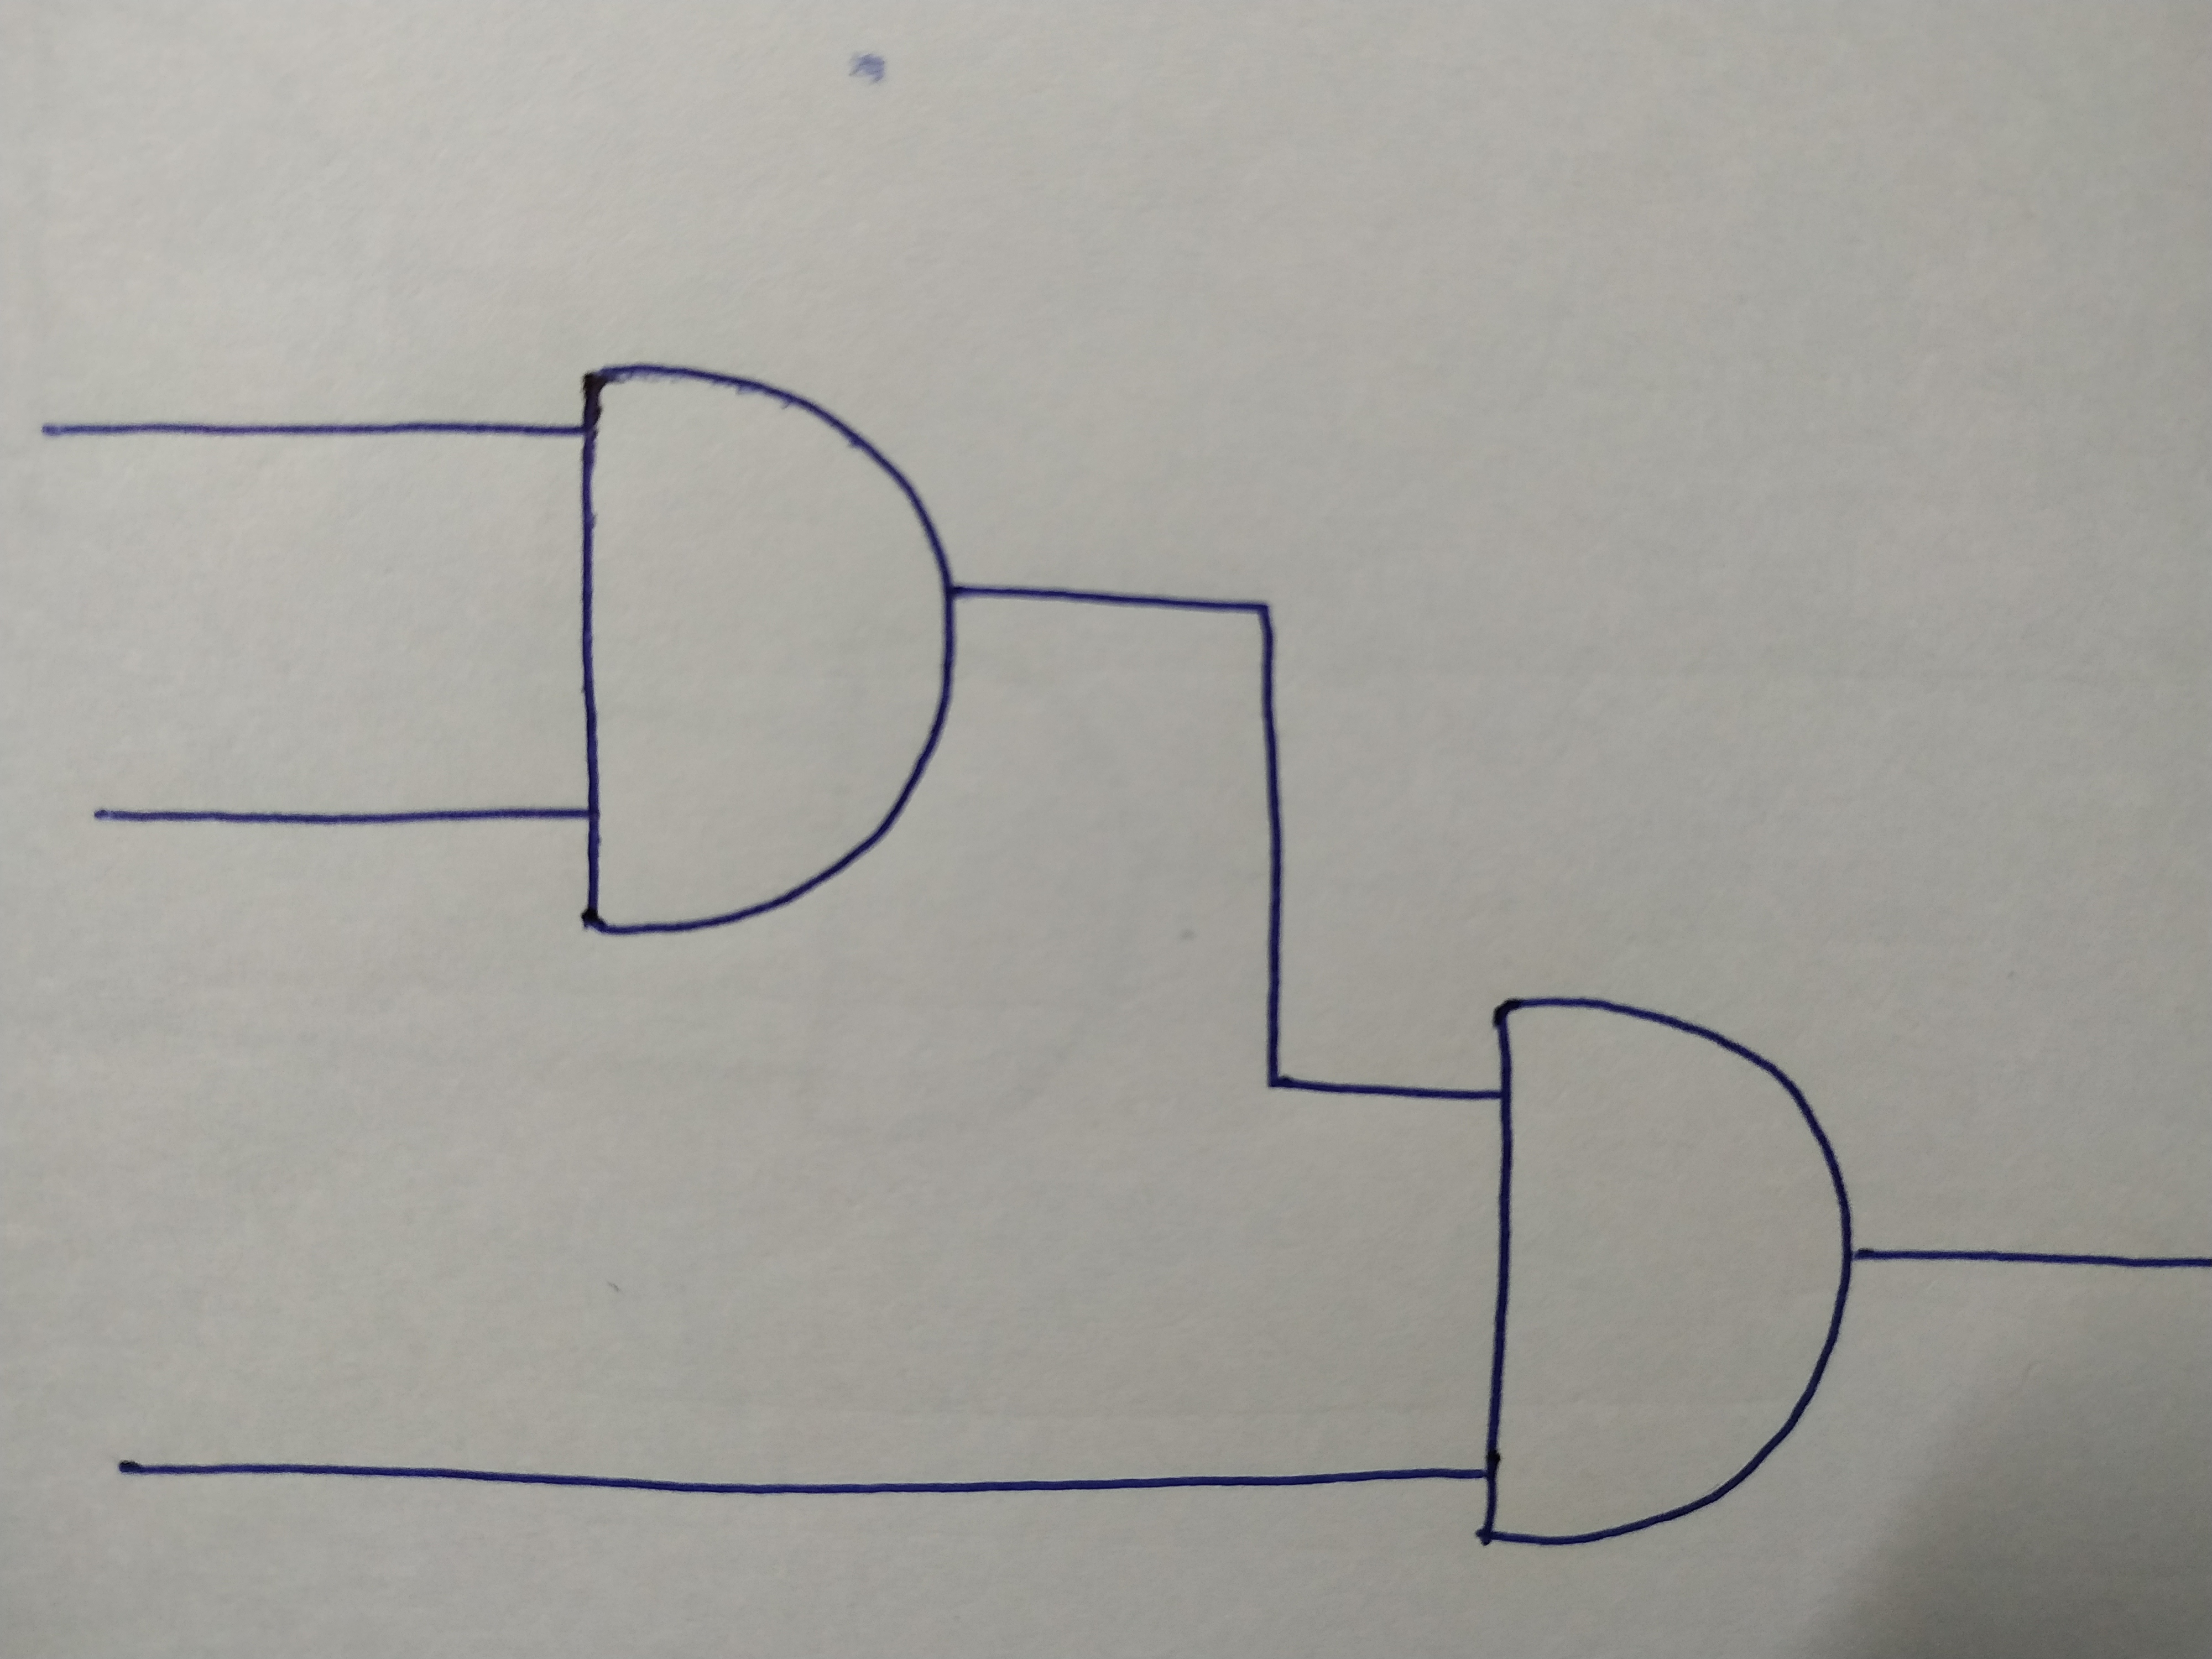and: (571, 356, 960, 932), (1480, 993, 1858, 1554)
